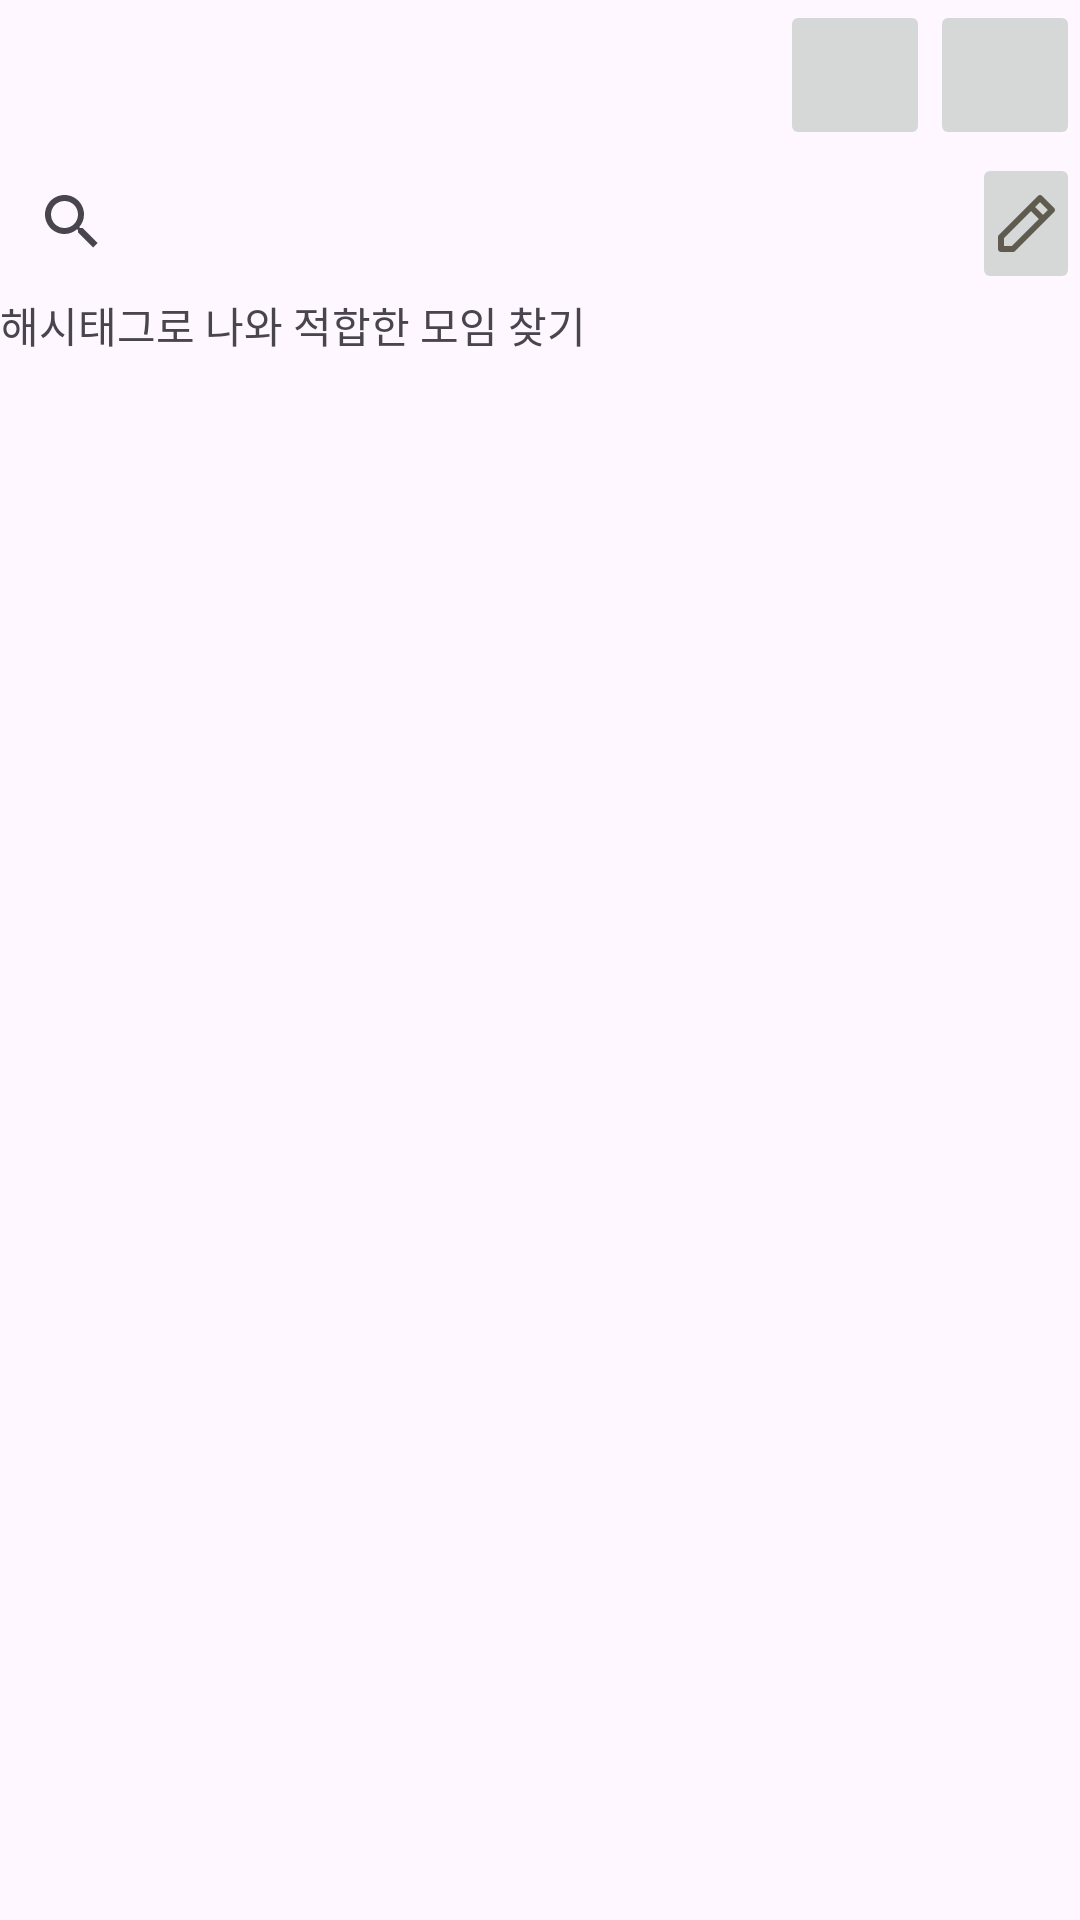

Locate icon controls on the screen. Image size 1080px×1920px, boxes as [left=x1, top=y1, right=x2, bottom=y2].
rewritr: [left=984, top=171, right=1068, bottom=276]
